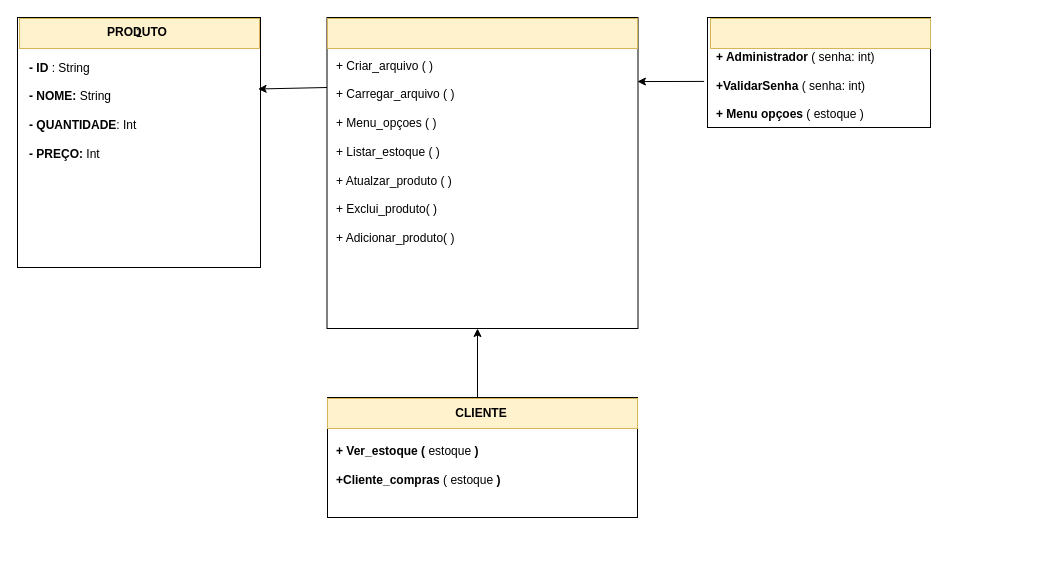
The diagram is 1042 pixels wide and 576 high, and some of its shapes have lost their labels. Here are the shapes that lost their labels. From the top down, the centre of each, then its label:
the point at 482,33: SISTEMA/ESTOQUE
the point at 820,33: ADMINISTRADOR
